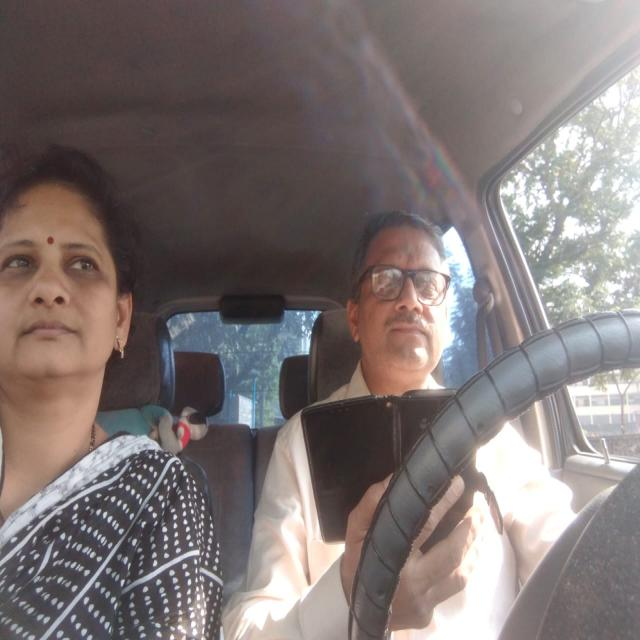mobile: (395, 387, 485, 563)
person: (0, 143, 144, 415), (351, 210, 464, 382)
